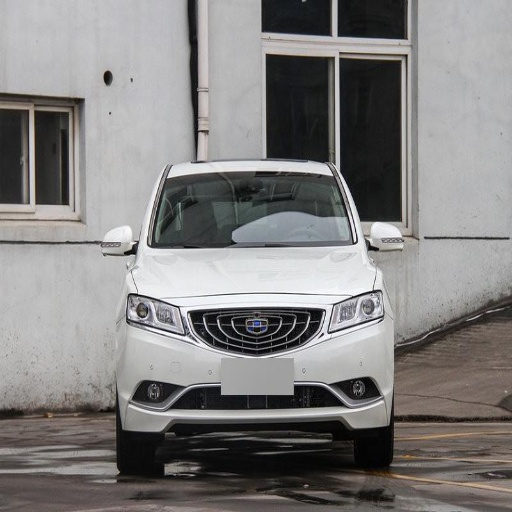front_bumper: (115, 297, 390, 452)
front_right_light: (126, 293, 185, 335)
hood: (134, 244, 374, 302)
